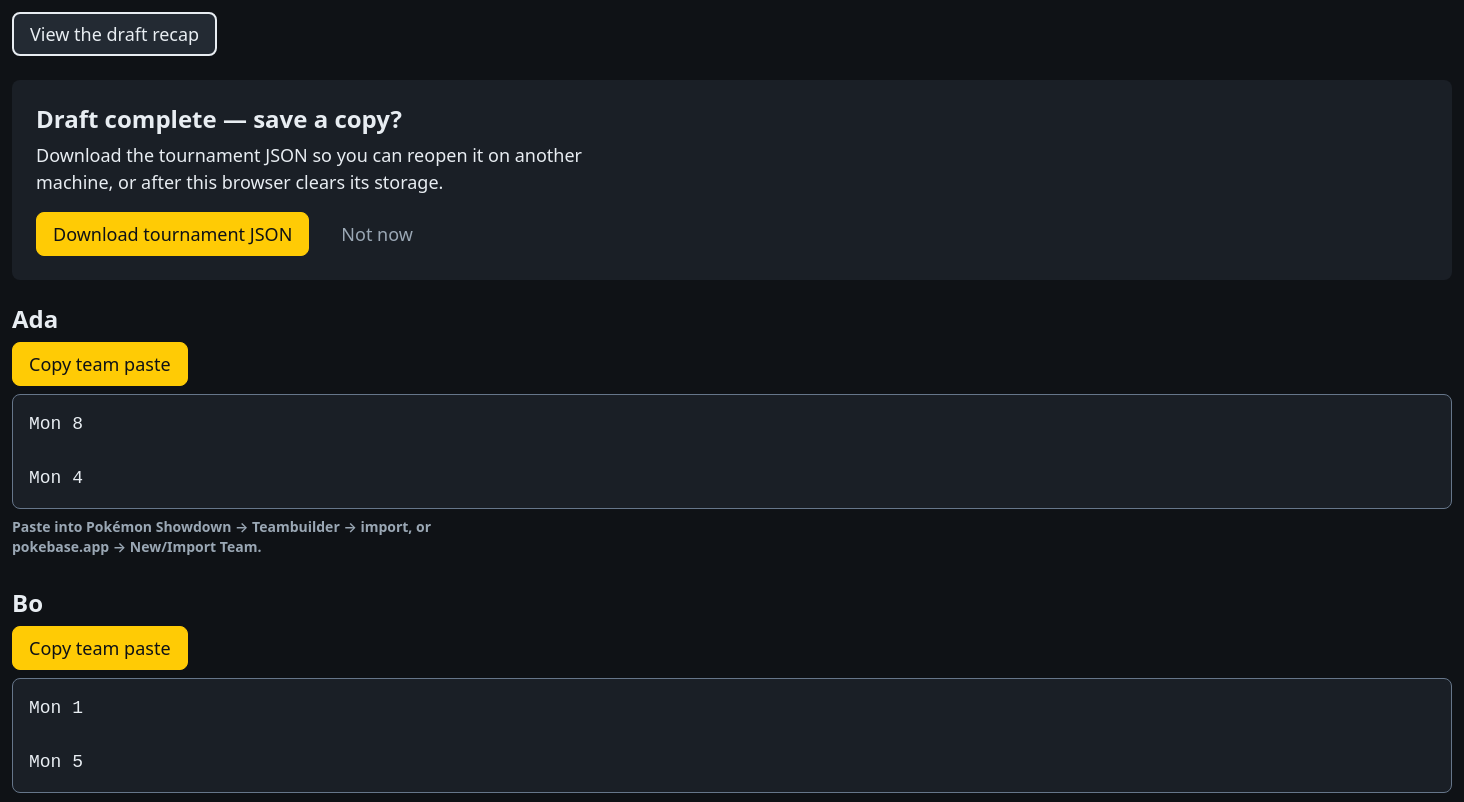
Test: reaching the recap › a draftOnly completed draft can reach the recap
The width and height of the screenshot is (1464, 802).
Click the button "View the draft recap": (115, 34) [12, 12, 217, 56]
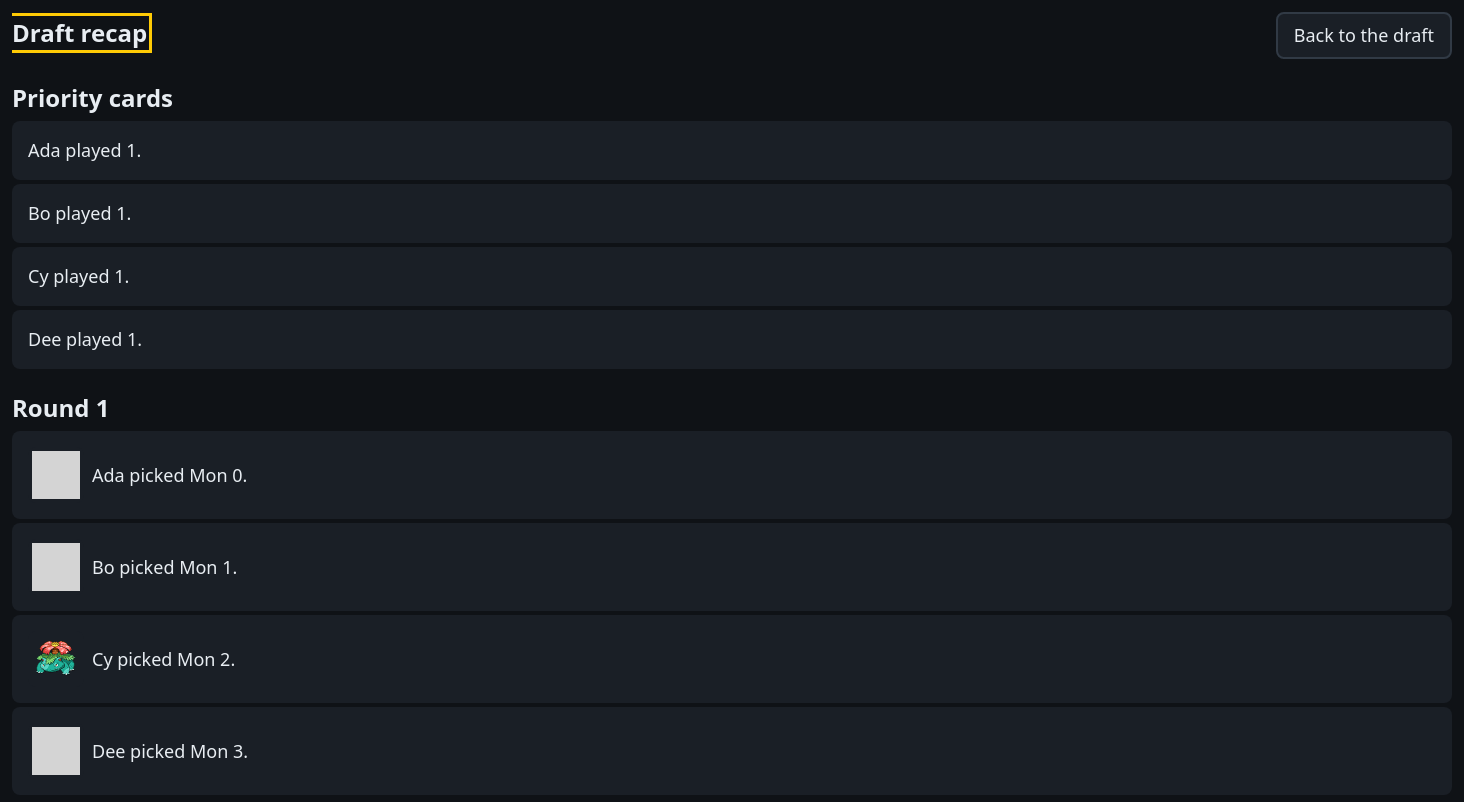
Result: the button "Back to the draft" is shown at [1276, 12, 1452, 59]
